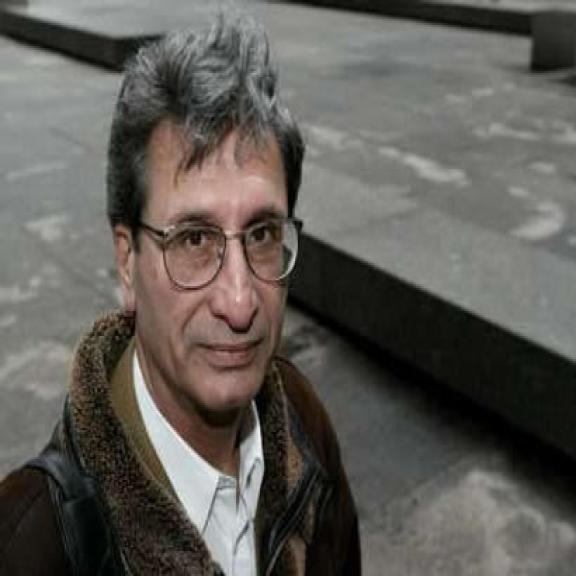face: (106, 28, 306, 418)
